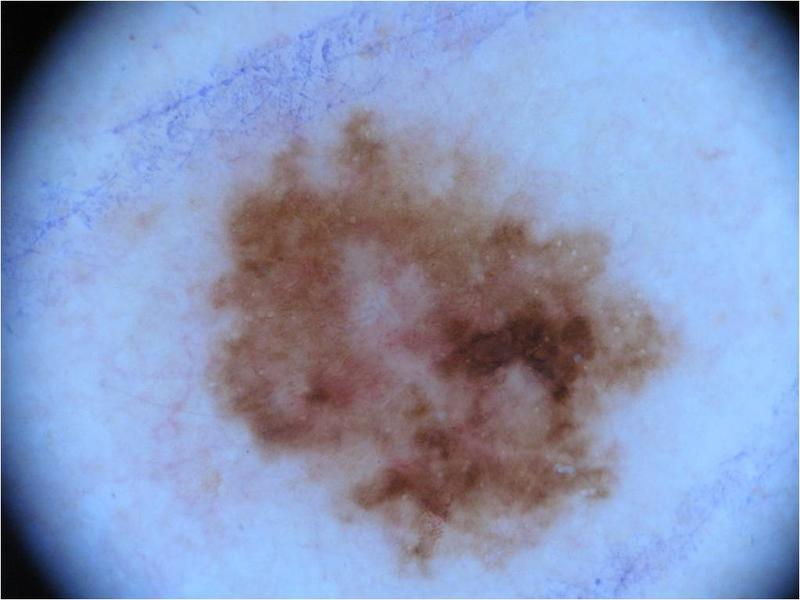Malignant: (231, 123, 661, 556)
